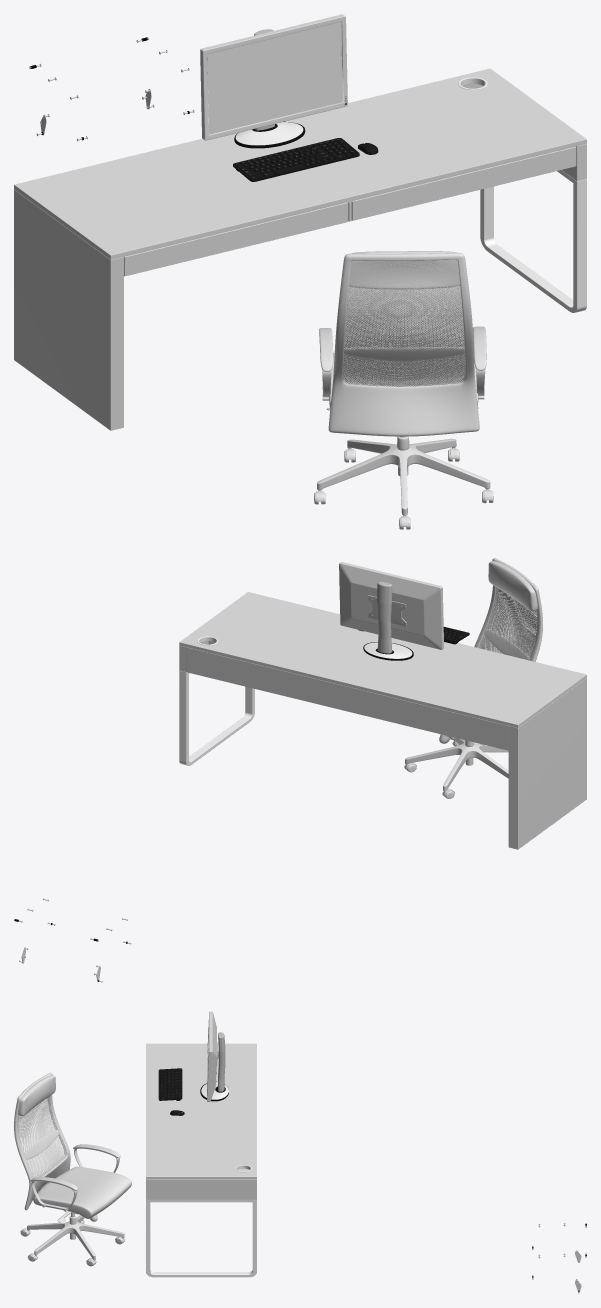
Rendered from Без имени.fbx.
The picture shows the model from 3 angles, top to bottom: view 1: azimuth 30°, elevation 25°; view 2: azimuth 150°, elevation 25°; view 3: azimuth 270°, elevation 25°; orthographic projection. The views are drawn at different scales.
Visible parts, largest first — view 1: White_desk.001, ikea_markus.002, Monitor, keyboard.001; view 2: White_desk.001, Monitor, ikea_markus.002; view 3: White_desk.001, ikea_markus.002, Monitor, keyboard.001.
Part boxes in pixels (box(x1,y1,x2,y2)): White_desk.001: box(14, 68, 586, 430); ikea_markus.002: box(314, 251, 493, 529); Monitor: box(200, 14, 347, 148); keyboard.001: box(233, 138, 359, 181); White_desk.001: box(179, 592, 586, 849); Monitor: box(339, 562, 443, 660); ikea_markus.002: box(404, 558, 542, 798); White_desk.001: box(146, 1043, 256, 1277); ikea_markus.002: box(14, 1072, 131, 1266); Monitor: box(200, 1011, 228, 1101); keyboard.001: box(158, 1068, 182, 1100).
Size of the model in its own units: 213 by 158 by 387.
